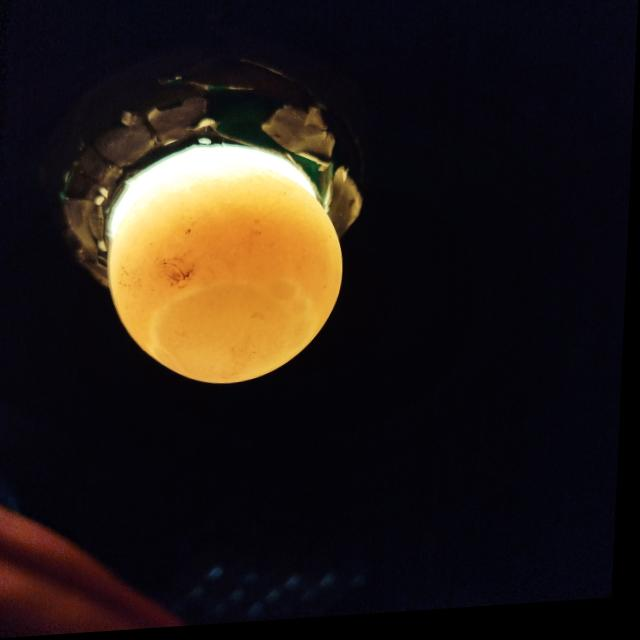Camara de Ar: (153, 283, 321, 387)
